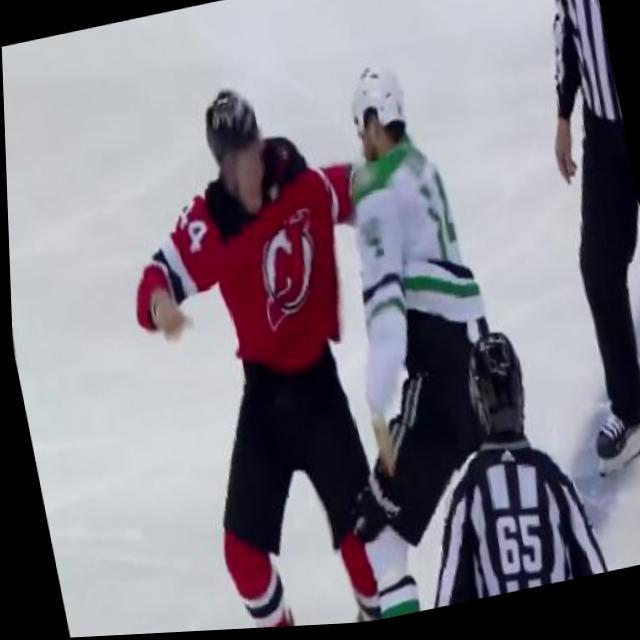fight: (78, 25, 539, 557)
